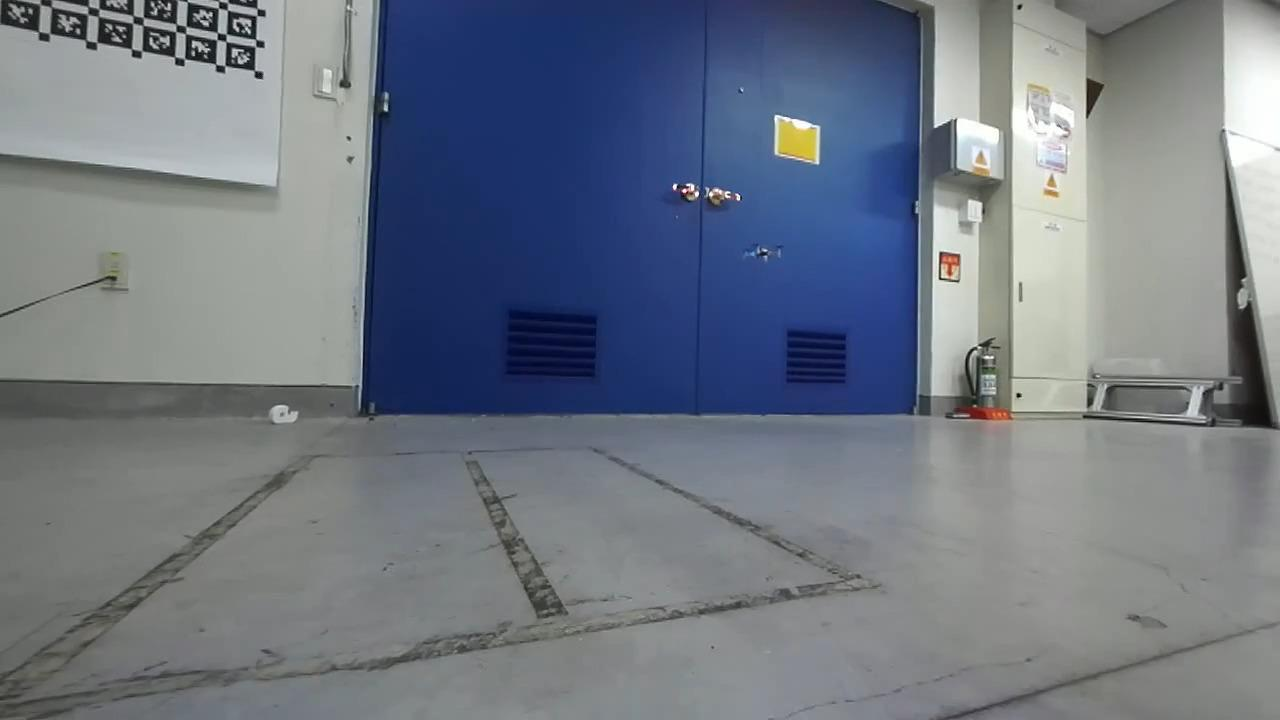crazyflie: (736, 240, 790, 265)
